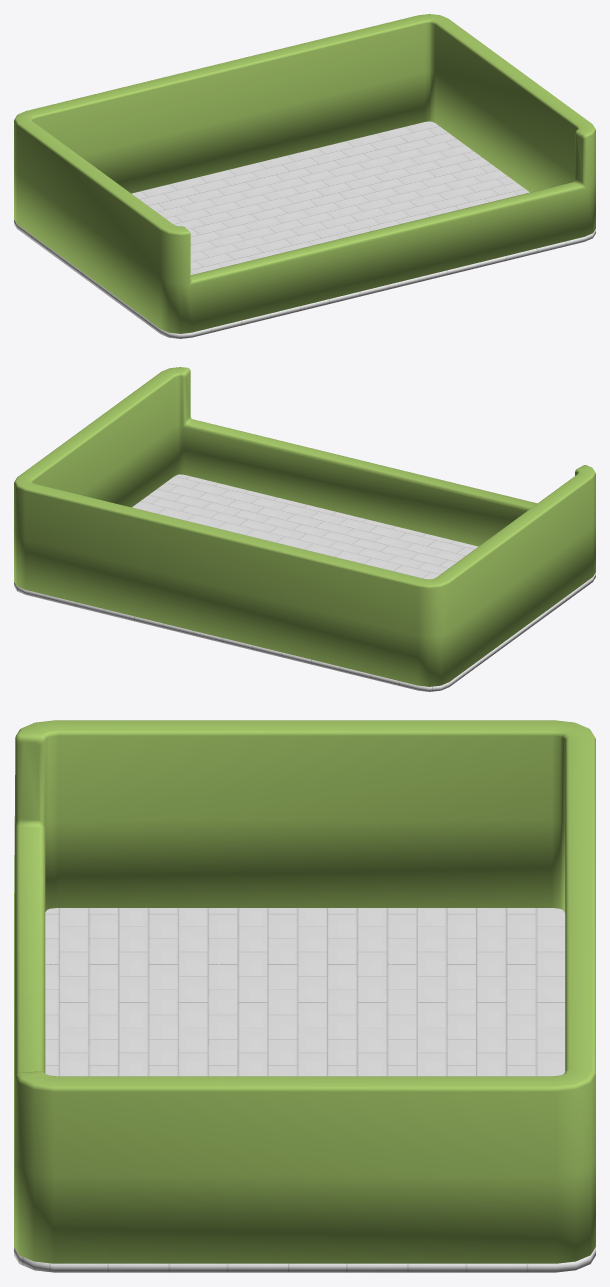
The model's file is lobby.fbx.
3 renders of one model, top to bottom at view 1: azimuth 30°, elevation 25°; view 2: azimuth 150°, elevation 25°; view 3: azimuth 270°, elevation 25°, orthographic. The views are drawn at different scales.
Parts seen in each view (by area): view 1: walls, ground; view 2: walls, ground; view 3: walls, ground.
Boxes of the visible parts, x1=… form: walls: x1=14, y1=14, x2=595, y2=333; ground: x1=14, y1=121, x2=595, y2=338; walls: x1=14, y1=367, x2=595, y2=686; ground: x1=14, y1=474, x2=595, y2=691; walls: x1=14, y1=720, x2=595, y2=1263; ground: x1=14, y1=908, x2=595, y2=1272.
Size of the model in its own units: 1800 by 420 by 1200.
